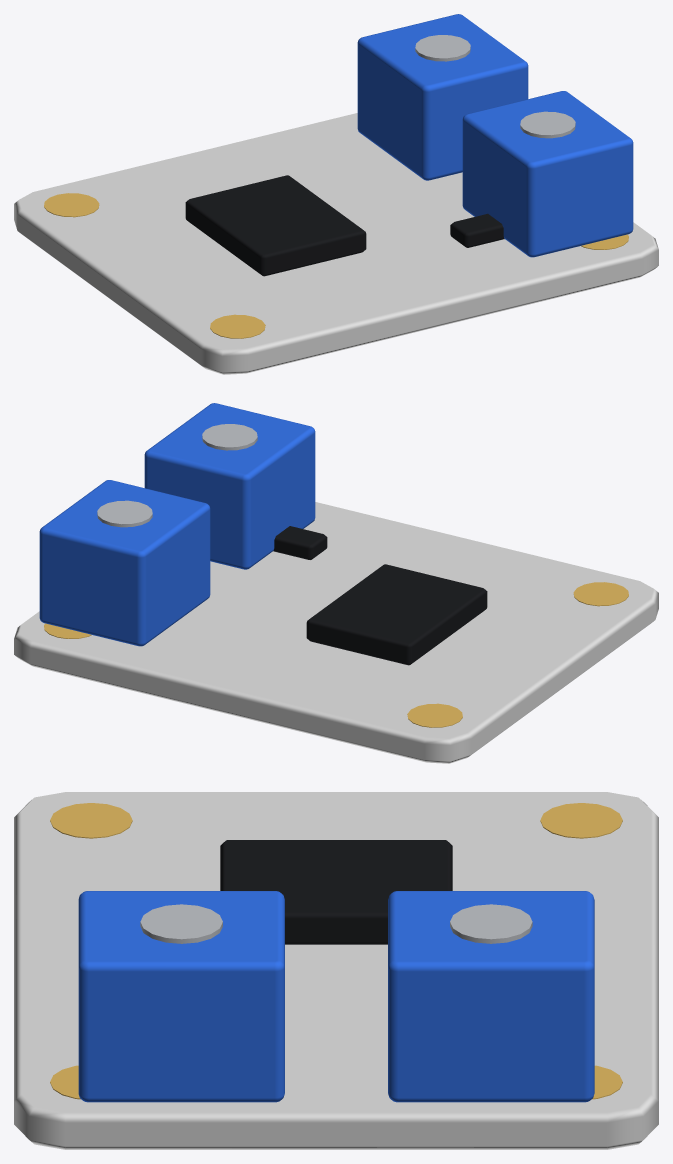
Rendered from motor-driver.glb.
3 renders of one model, top to bottom at view 1: azimuth 30°, elevation 25°; view 2: azimuth 150°, elevation 25°; view 3: azimuth 270°, elevation 25°, orthographic. The views are drawn at different scales.
Parts seen in each view (by area): view 1: motor-driver; view 2: motor-driver; view 3: motor-driver.
Part boxes in pixels (x1,y1,x2,y2): motor-driver: (14,14,658,374); motor-driver: (14,403,658,763); motor-driver: (14,792,658,1149).
Bounding box in the file's own units: 0.03 × 0.0078 × 0.025.
